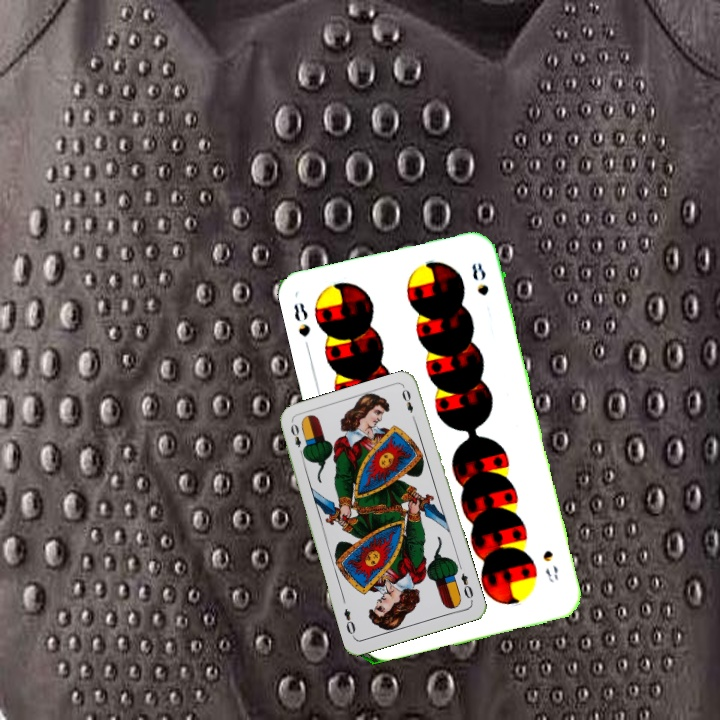EO: (286, 420, 307, 459), (457, 569, 476, 601)
S8: (289, 299, 314, 339), (539, 546, 561, 586)
